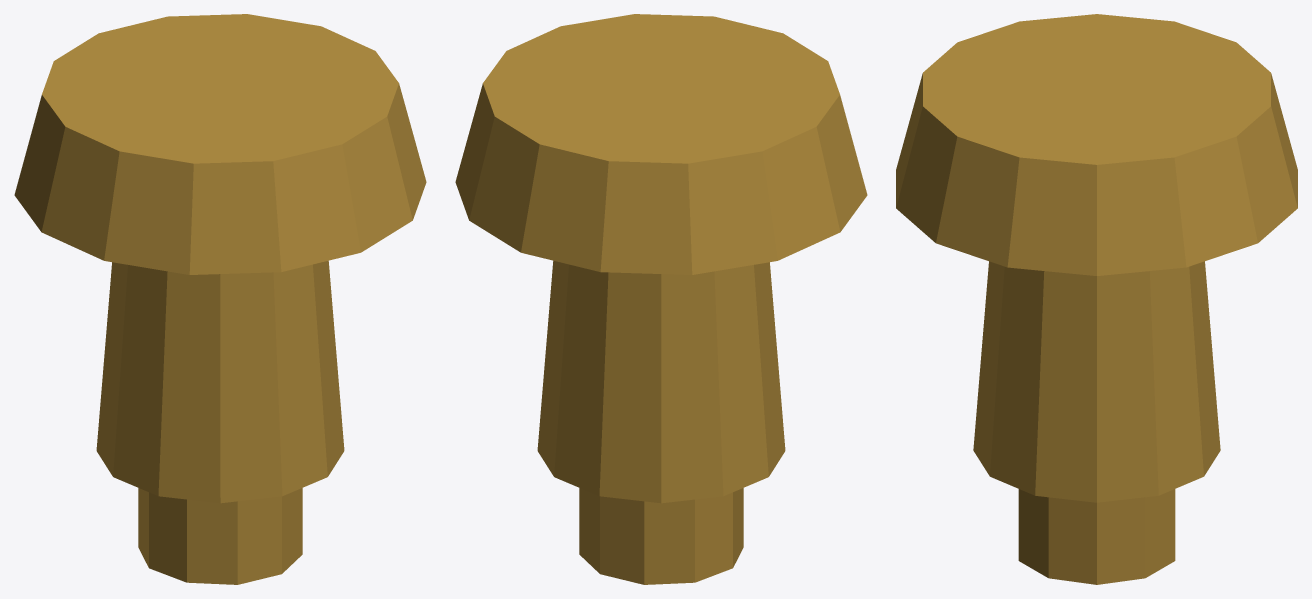
File: knob_bollard.glb
3 views of the same model, side by side, from view 1: azimuth 30°, elevation 25°; view 2: azimuth 150°, elevation 25°; view 3: azimuth 270°, elevation 25° (orthographic).
Parts seen in each view (by area): view 1: GearKnob; view 2: GearKnob; view 3: GearKnob.
Boxes of the visible parts, <box> form: GearKnob: <box>14,14,426,584</box>; GearKnob: <box>455,14,867,584</box>; GearKnob: <box>896,14,1297,584</box>.
Size of the model in its own units: 0.06 by 0.074 by 0.0585.
